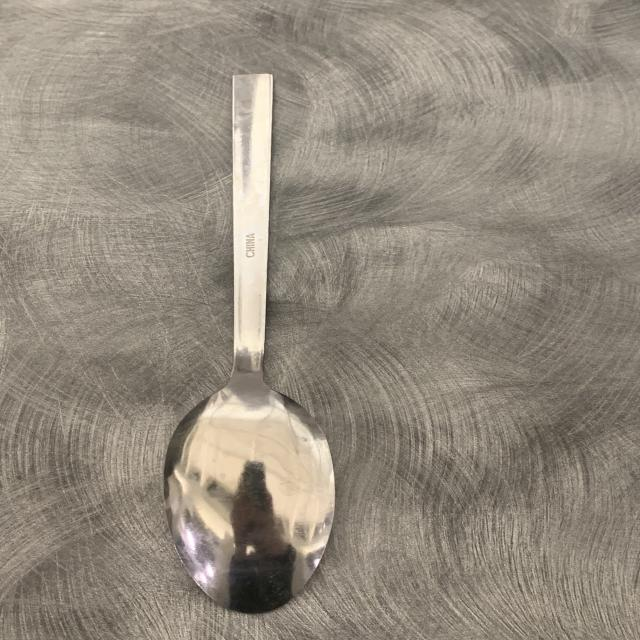spoon: (122, 56, 368, 624)
